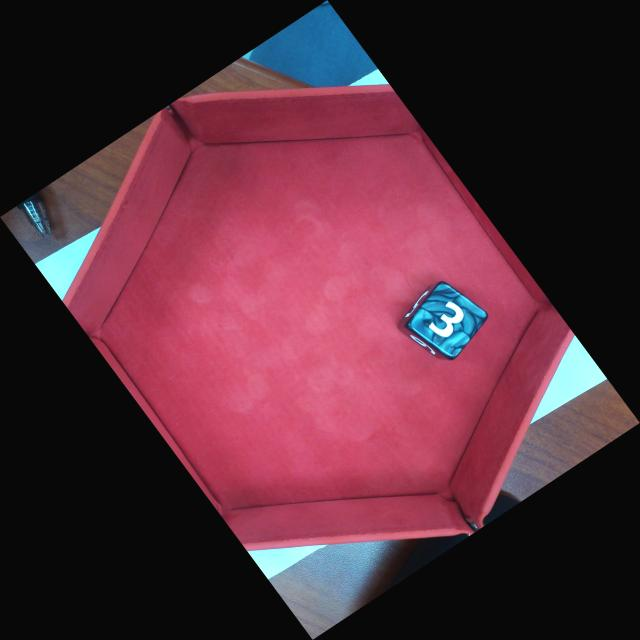dice: (404, 280, 490, 360)
